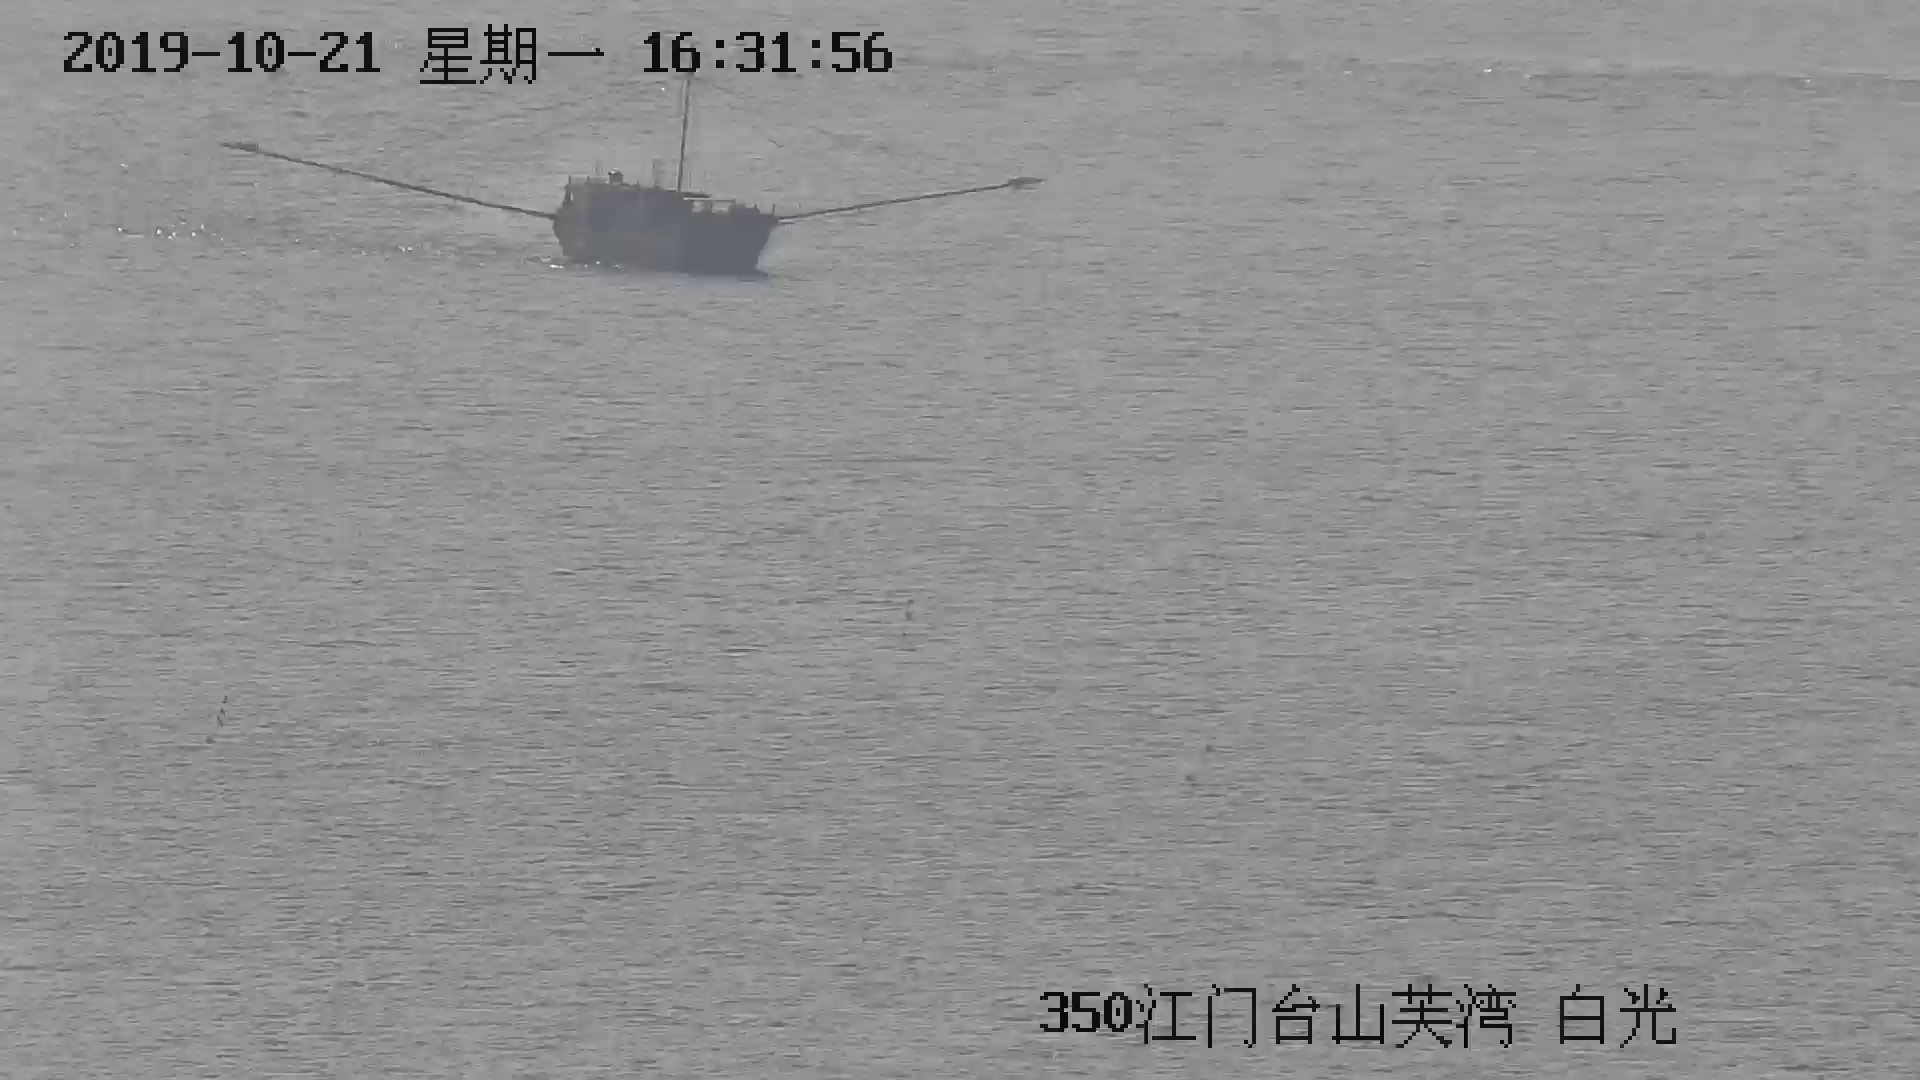ship: (549, 58, 779, 277)
